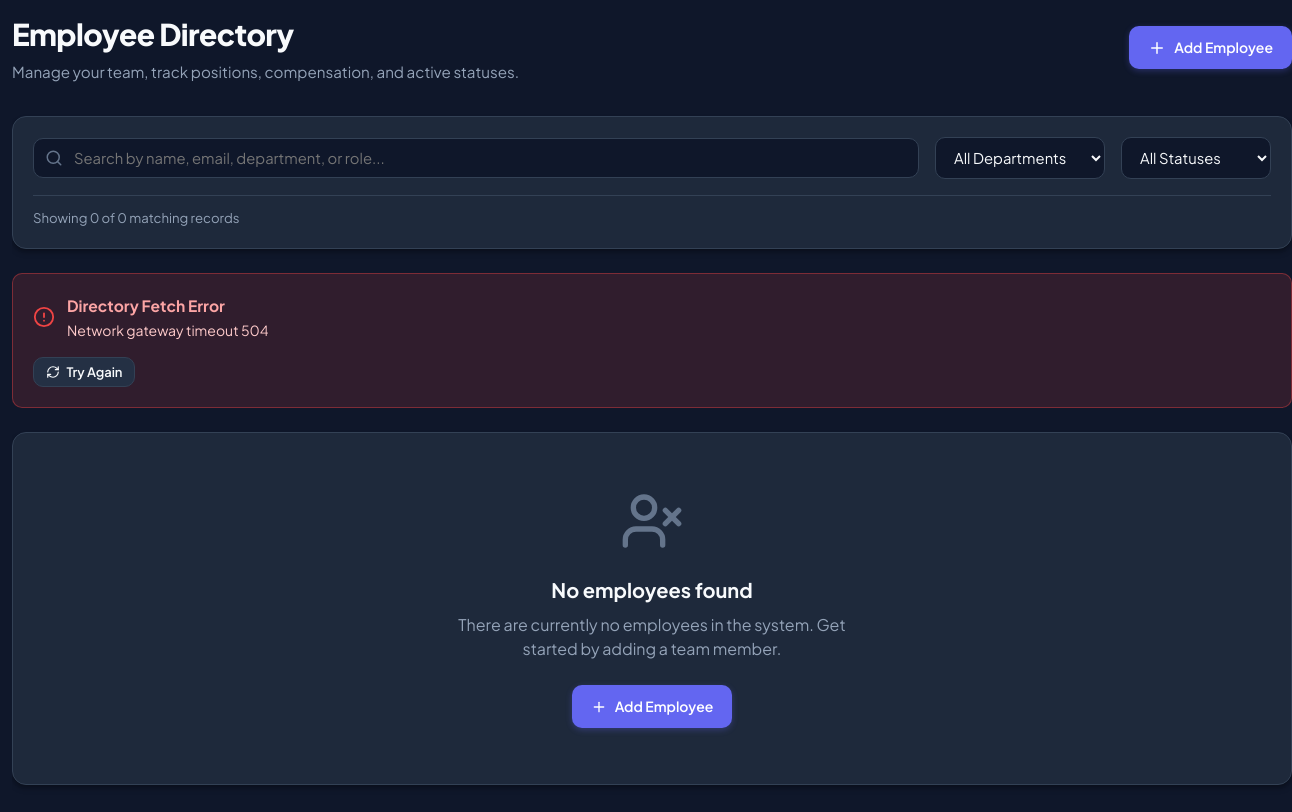
EmployeeList (Loading, Error & List States) › displays API error banner and allows user to retry
expect the heading "Directory Fetch Error" is shown: met, box [67,296,225,315]
expect the text "Network gateway timeout 504" is shown: met, box [67,320,269,341]
// Click Try Again
What coordinates should you click on to do the following:
click the button "Try Again"
I would click on:
 (84, 372)
Its box is [33,357,136,387].
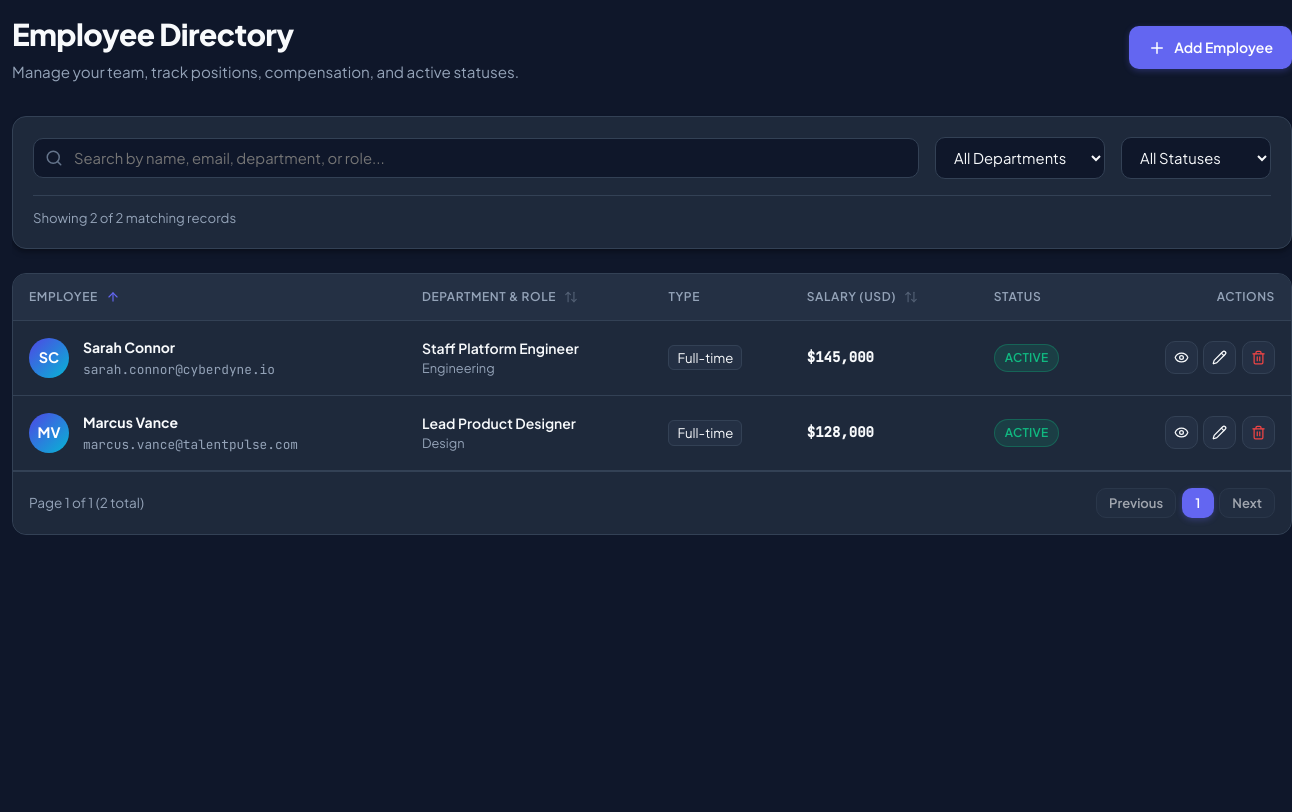
expect the link "Sarah Connor" is shown: met, box [83,338,175,356]
